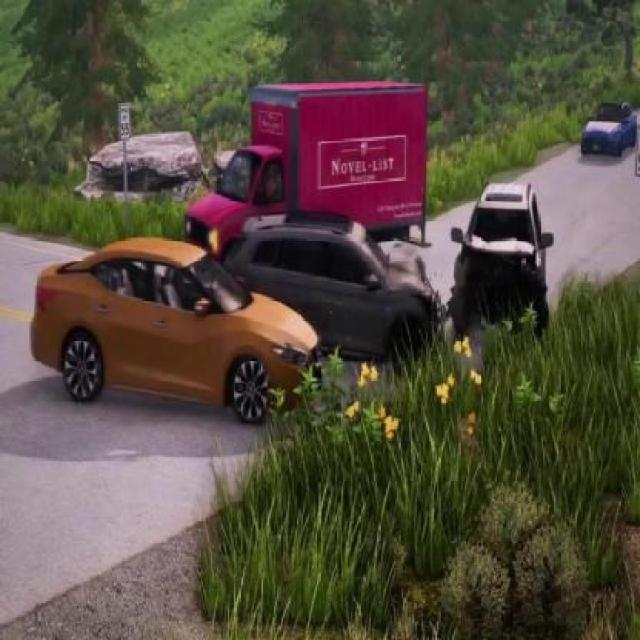accident: (318, 170, 548, 388)
